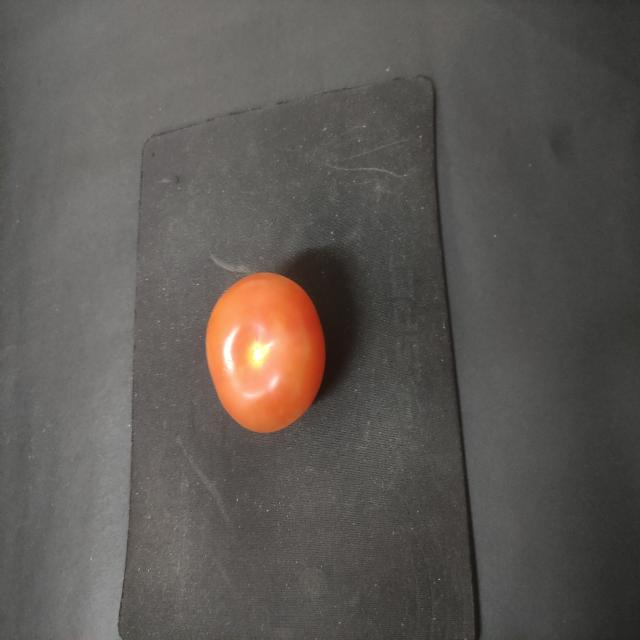sari: (200, 273, 336, 446)
